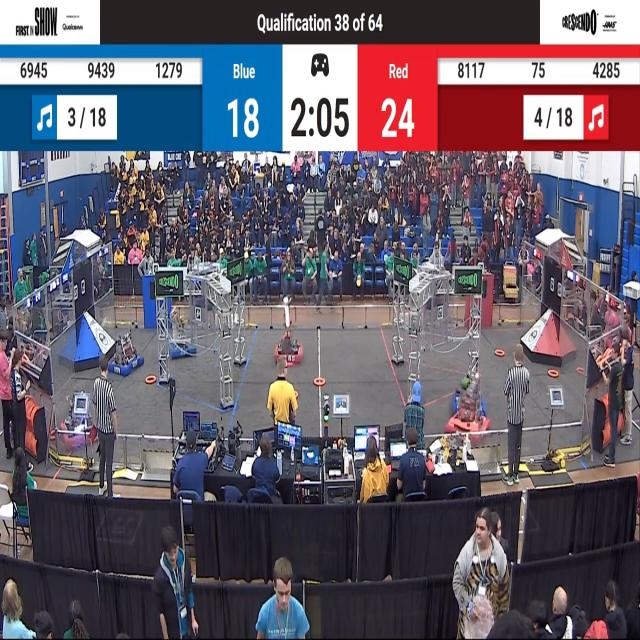Robot: (445, 374, 489, 441), (60, 386, 96, 450), (108, 326, 144, 380), (169, 299, 198, 361), (274, 315, 304, 373), (453, 371, 486, 416)
